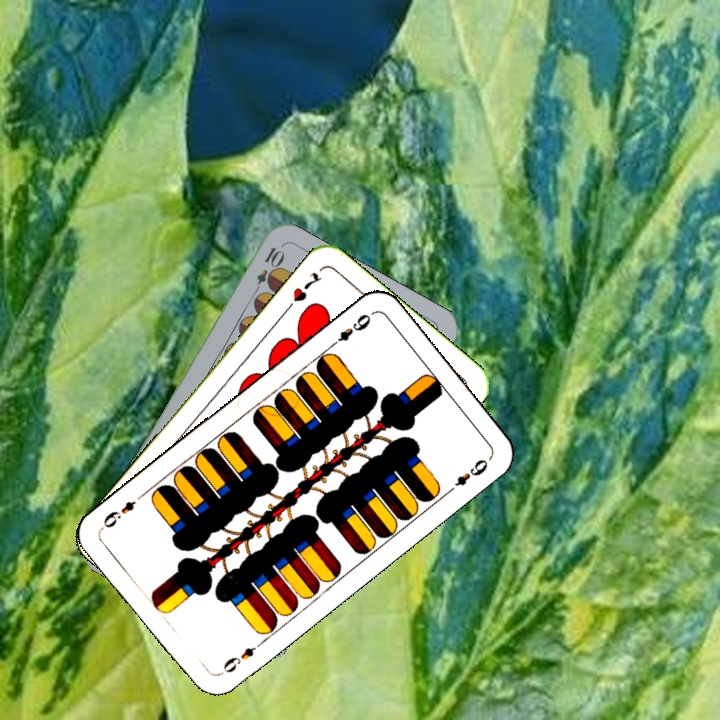E10: (248, 243, 285, 299)
E9: (325, 309, 375, 351), (216, 637, 266, 678)
H7: (281, 267, 325, 314)
